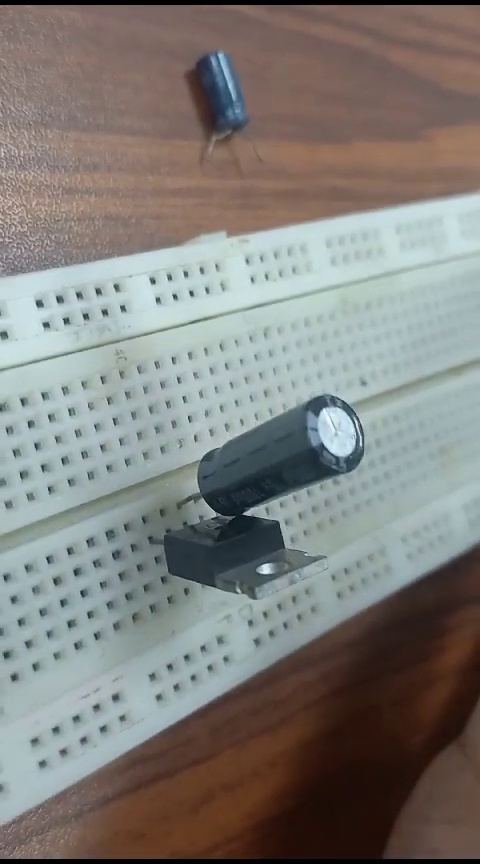capacitor: (167, 395, 368, 505)
voltage regulator: (147, 512, 336, 600)
